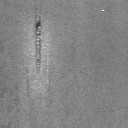slag inclusion: (34, 7, 43, 74)
